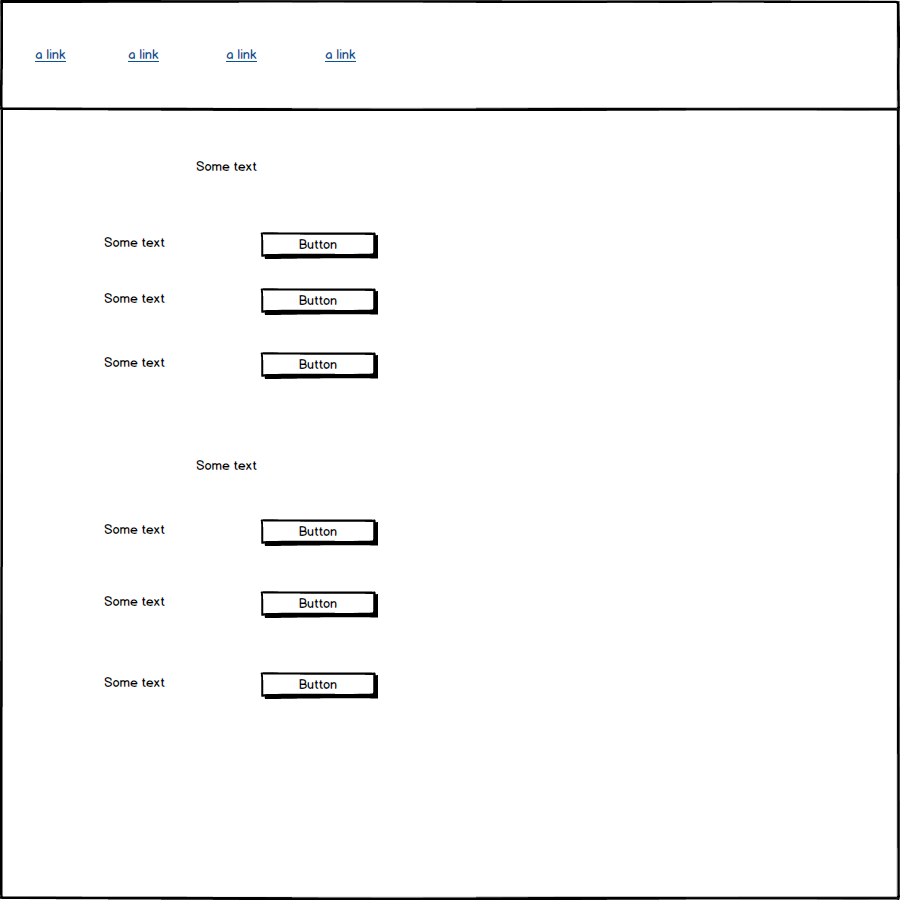button: (242, 664, 389, 708), (253, 510, 387, 555), (257, 223, 394, 267), (253, 280, 389, 322), (252, 584, 392, 623), (252, 345, 392, 384)
h1: (187, 451, 270, 484), (187, 155, 271, 181)
label: (87, 285, 185, 318), (94, 343, 167, 385), (92, 511, 172, 547), (94, 582, 175, 614), (98, 670, 187, 699), (90, 230, 182, 255)
navlink: (23, 29, 72, 73), (219, 40, 271, 80), (115, 40, 178, 69), (311, 40, 363, 74)
